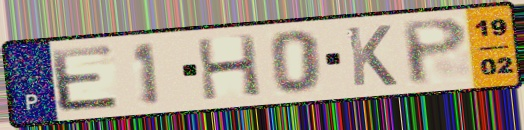0: (265, 28, 326, 97)
1: (130, 39, 161, 109)
E: (47, 42, 123, 114)
H: (193, 32, 265, 103)
K: (343, 23, 400, 89)
P: (398, 15, 471, 88)
